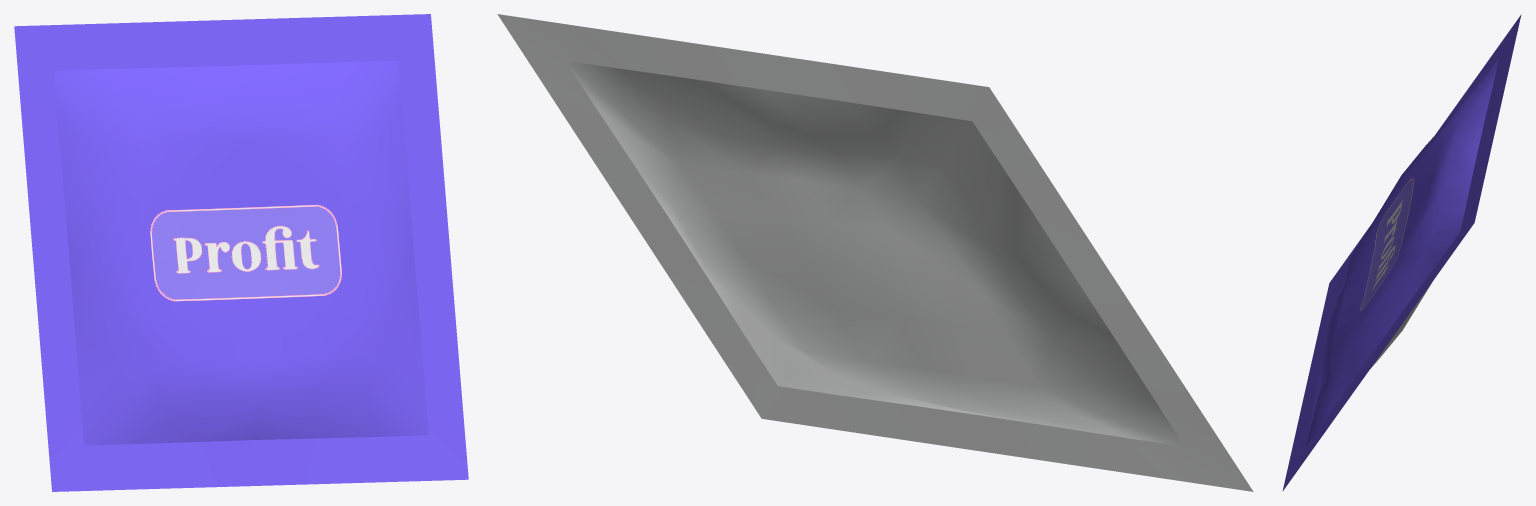
File: blue.glb
3 renders of one model, left to right at view 1: azimuth 30°, elevation 25°; view 2: azimuth 150°, elevation 25°; view 3: azimuth 270°, elevation 25°, orthographic. The views are drawn at different scales.
Visible parts, largest first — view 1: Condom Low Poly; view 2: Condom Low Poly; view 3: Condom Low Poly.
Boxes of the visible parts, x1=… form: Condom Low Poly: x1=14, y1=14, x2=468, y2=491; Condom Low Poly: x1=497, y1=14, x2=1253, y2=491; Condom Low Poly: x1=1282, y1=14, x2=1521, y2=491.
Bounding box in the file's own units: 2.36 × 2.05 × 1.26.
Materials: 1 (1 with a texture image).
